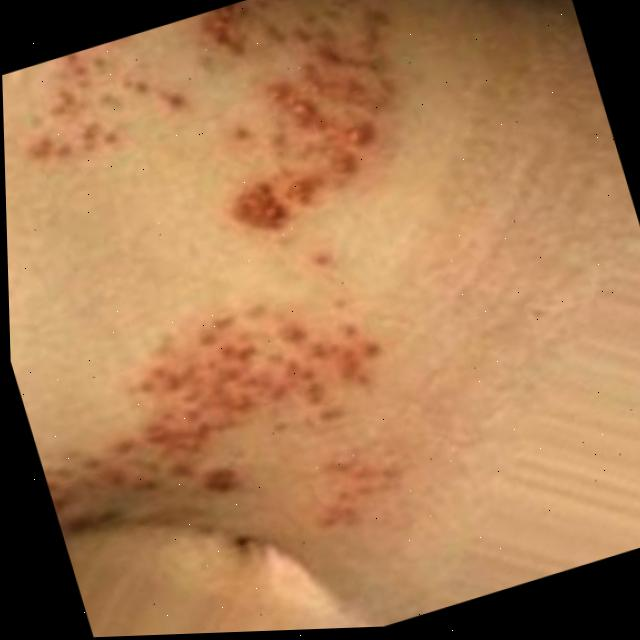Shingles: (18, 0, 453, 289), (19, 296, 403, 574)
